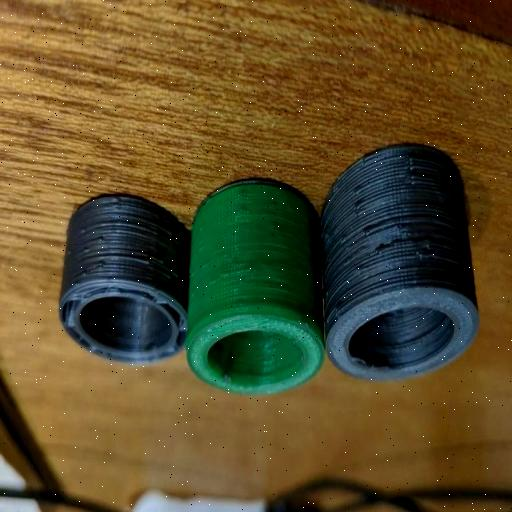blobs: (132, 246, 180, 284), (415, 239, 439, 265), (350, 182, 364, 220), (405, 156, 419, 190), (322, 224, 334, 248), (97, 256, 107, 274), (112, 198, 122, 216), (364, 221, 372, 238), (340, 234, 348, 248), (98, 232, 104, 250), (80, 270, 88, 282), (66, 246, 72, 262), (332, 182, 340, 192), (80, 224, 85, 238), (84, 244, 88, 257)
cracks: (376, 234, 411, 256)
